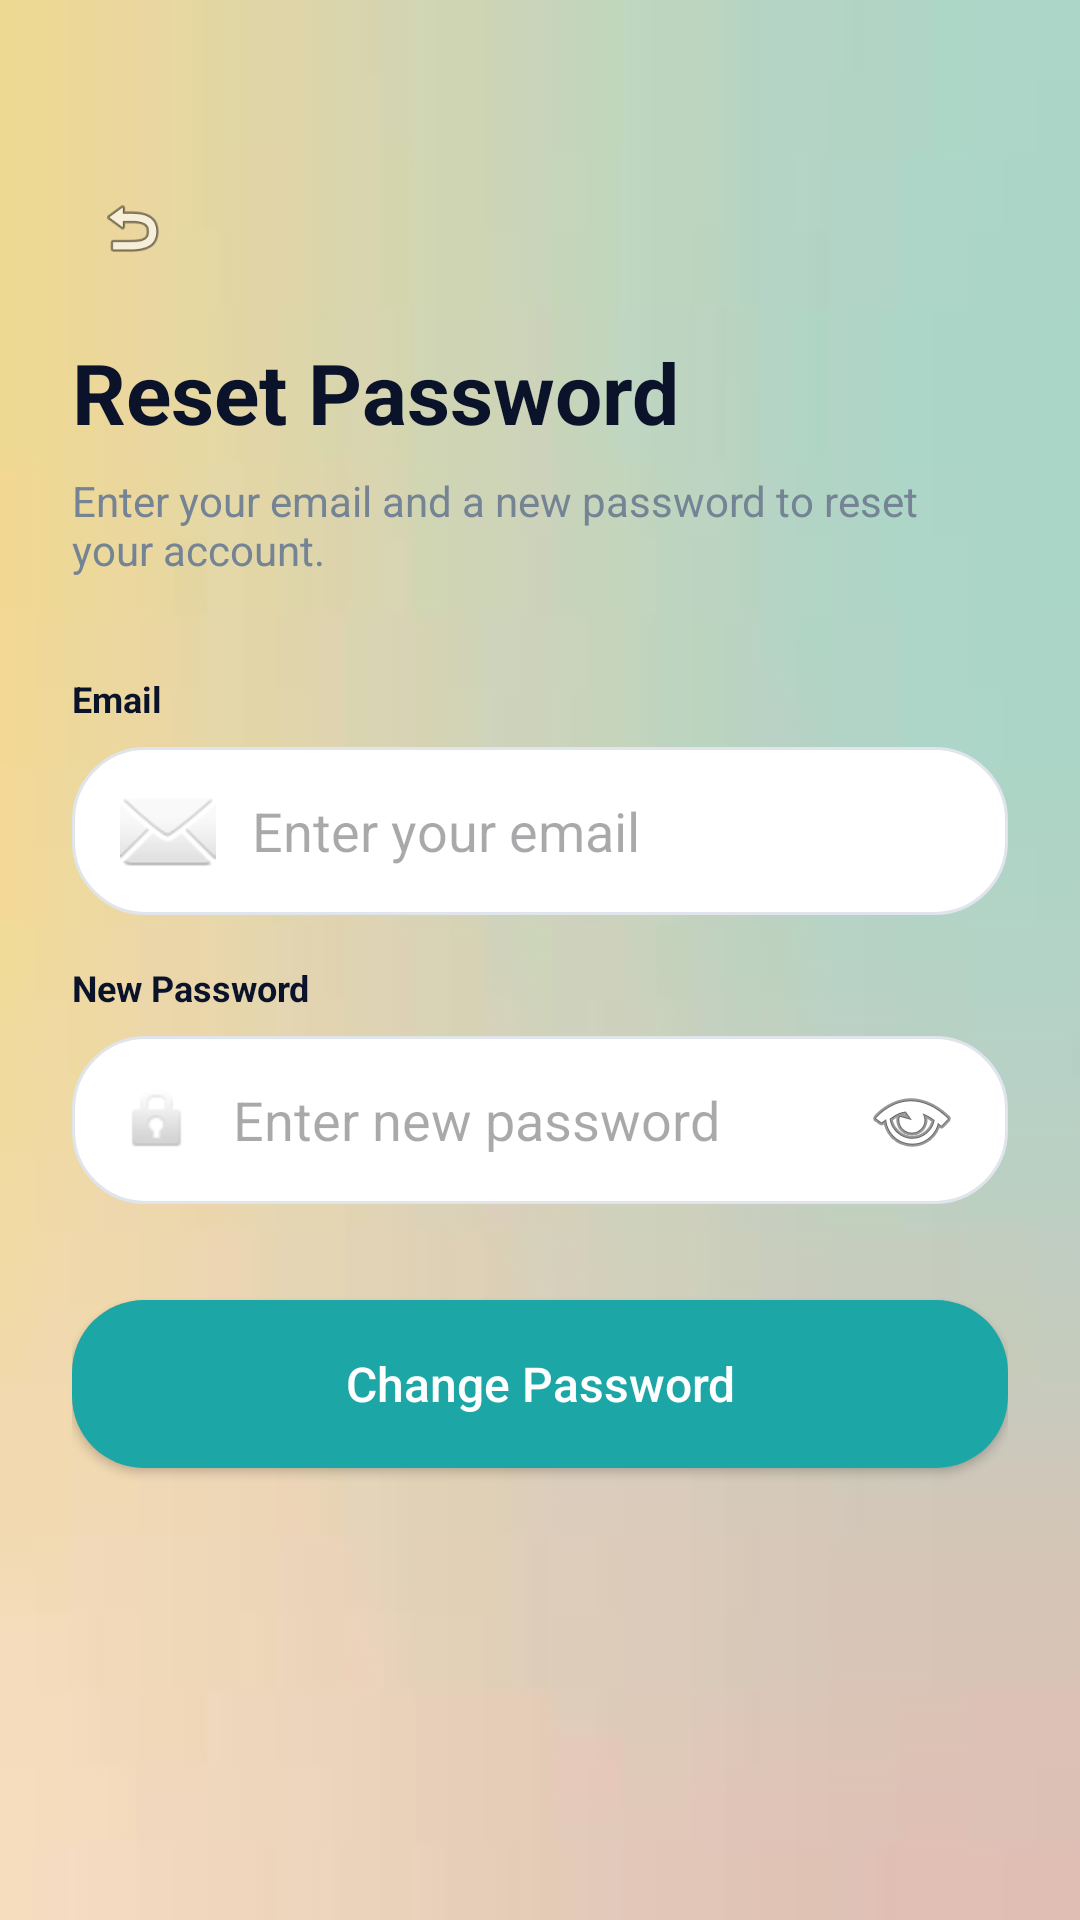

Icon bounding boxes for this 1080x1920 phone screenshot, format (x1, y1, x2, y2):
revert: (107, 205, 159, 252)
